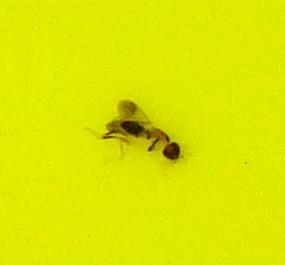Brachycera: (100, 100, 185, 165)
